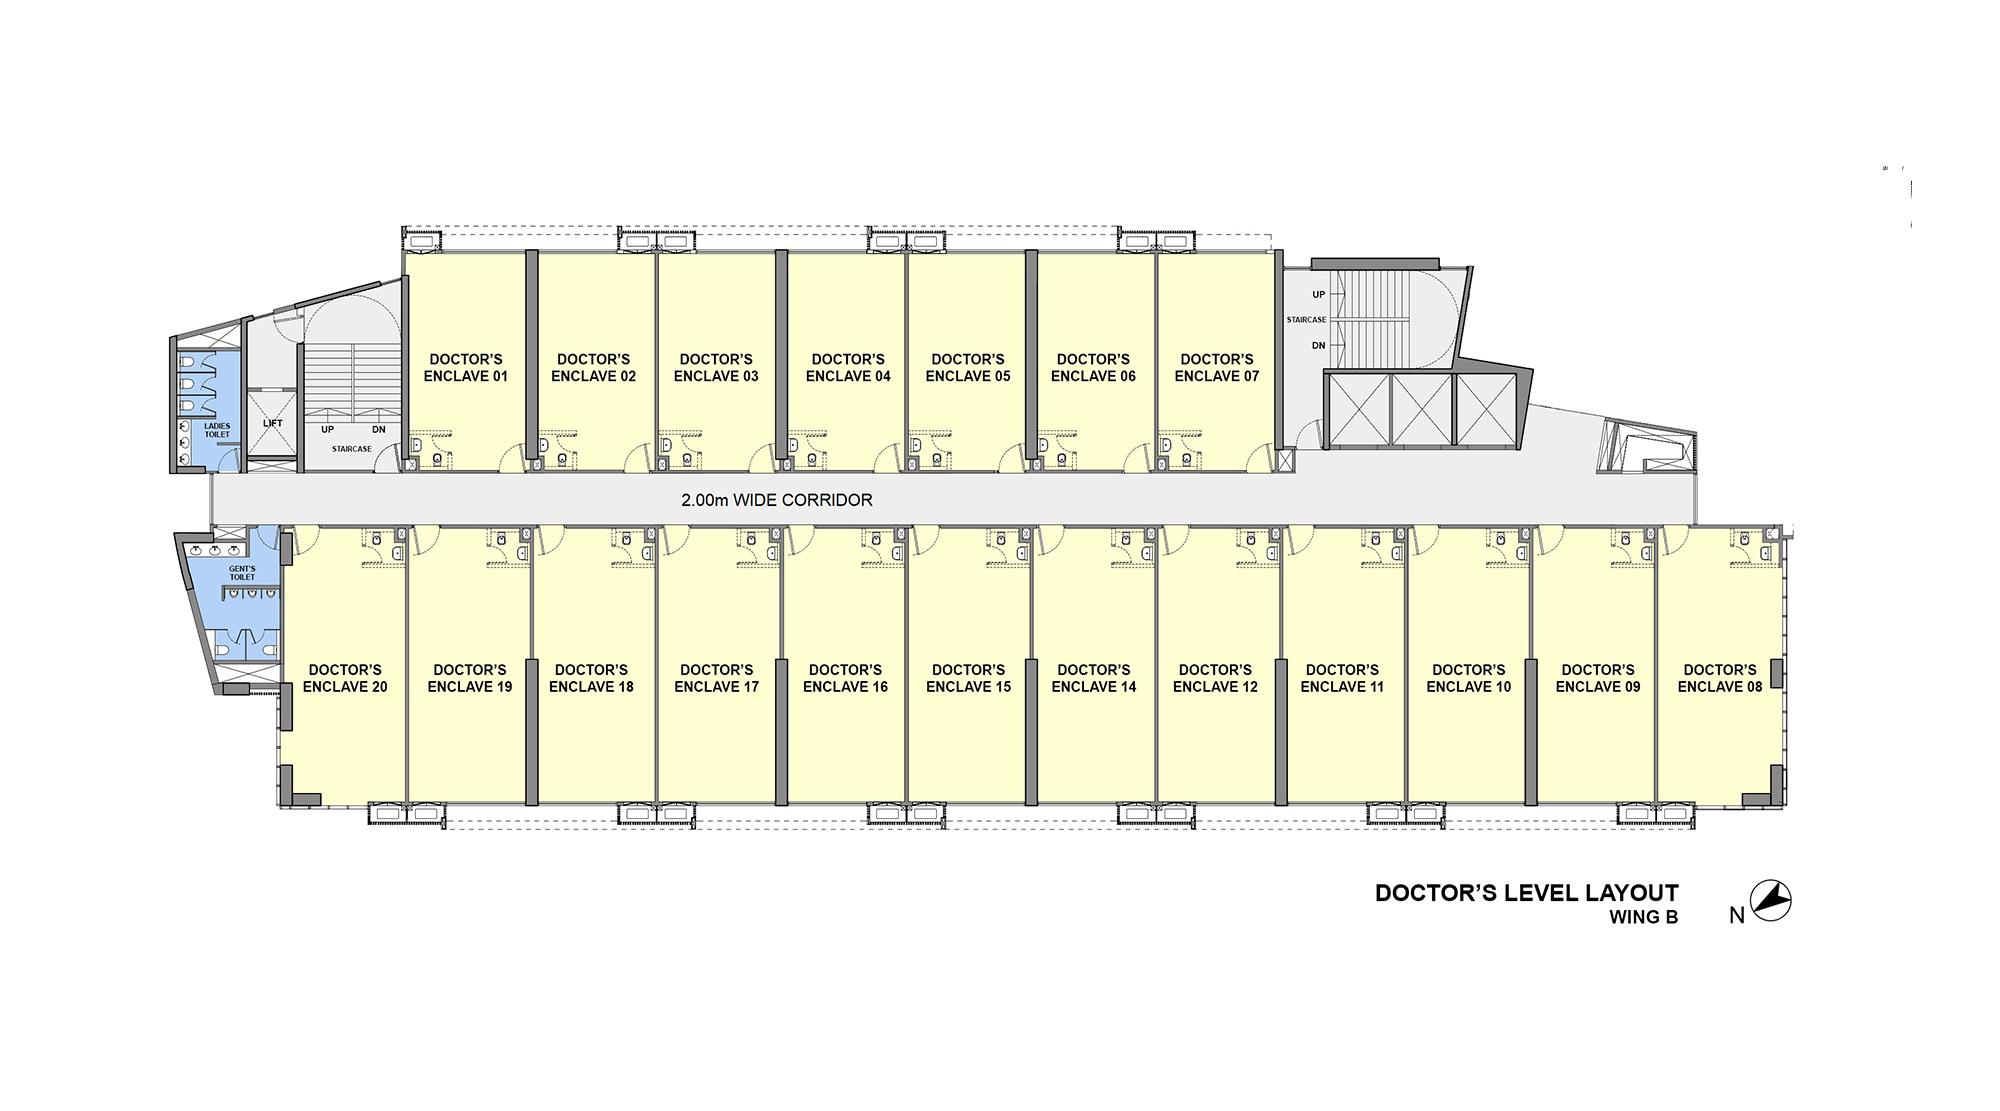room: (1655, 525, 1785, 806), (282, 525, 406, 805), (1531, 525, 1655, 803), (907, 525, 1031, 803), (657, 525, 781, 803), (531, 525, 655, 803), (1282, 527, 1406, 803), (1031, 525, 1156, 802), (1408, 525, 1531, 805), (782, 525, 906, 805), (1157, 525, 1280, 803), (408, 525, 531, 803), (657, 250, 784, 473), (906, 250, 1033, 473), (405, 250, 532, 472), (532, 250, 657, 473), (1031, 249, 1156, 472), (781, 250, 906, 472), (1156, 249, 1278, 472), (178, 535, 280, 688), (174, 348, 244, 471)
